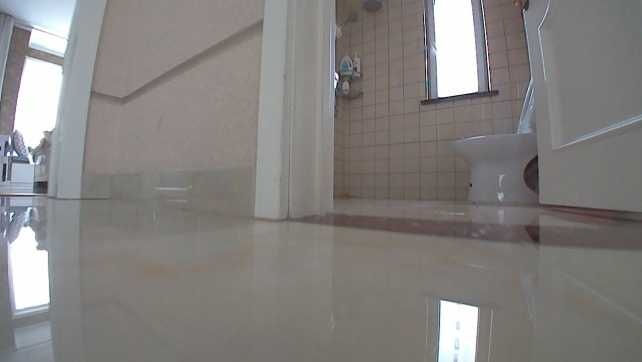door_anno: (516, 0, 641, 214)
toilet: (448, 78, 536, 205)
